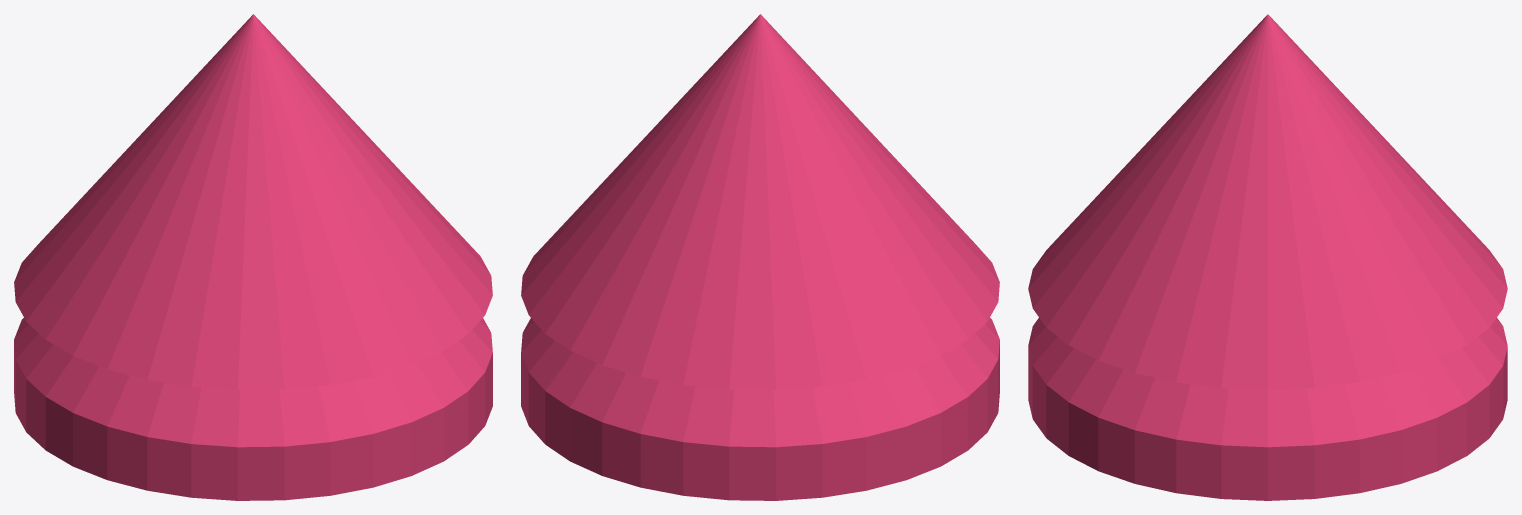
The model's file is interiorLighting.fbx.
3 views of the same model, side by side, from view 1: azimuth 30°, elevation 25°; view 2: azimuth 150°, elevation 25°; view 3: azimuth 270°, elevation 25° (orthographic).
Visible parts, largest first — view 1: Interior; view 2: Interior; view 3: Interior.
Boxes of the visible parts, box(x1,y1,x2,y2) form: Interior: box(14, 14, 492, 500); Interior: box(521, 14, 999, 500); Interior: box(1028, 14, 1507, 500).
Bounding box in the file's own units: 200 × 177 × 200.
